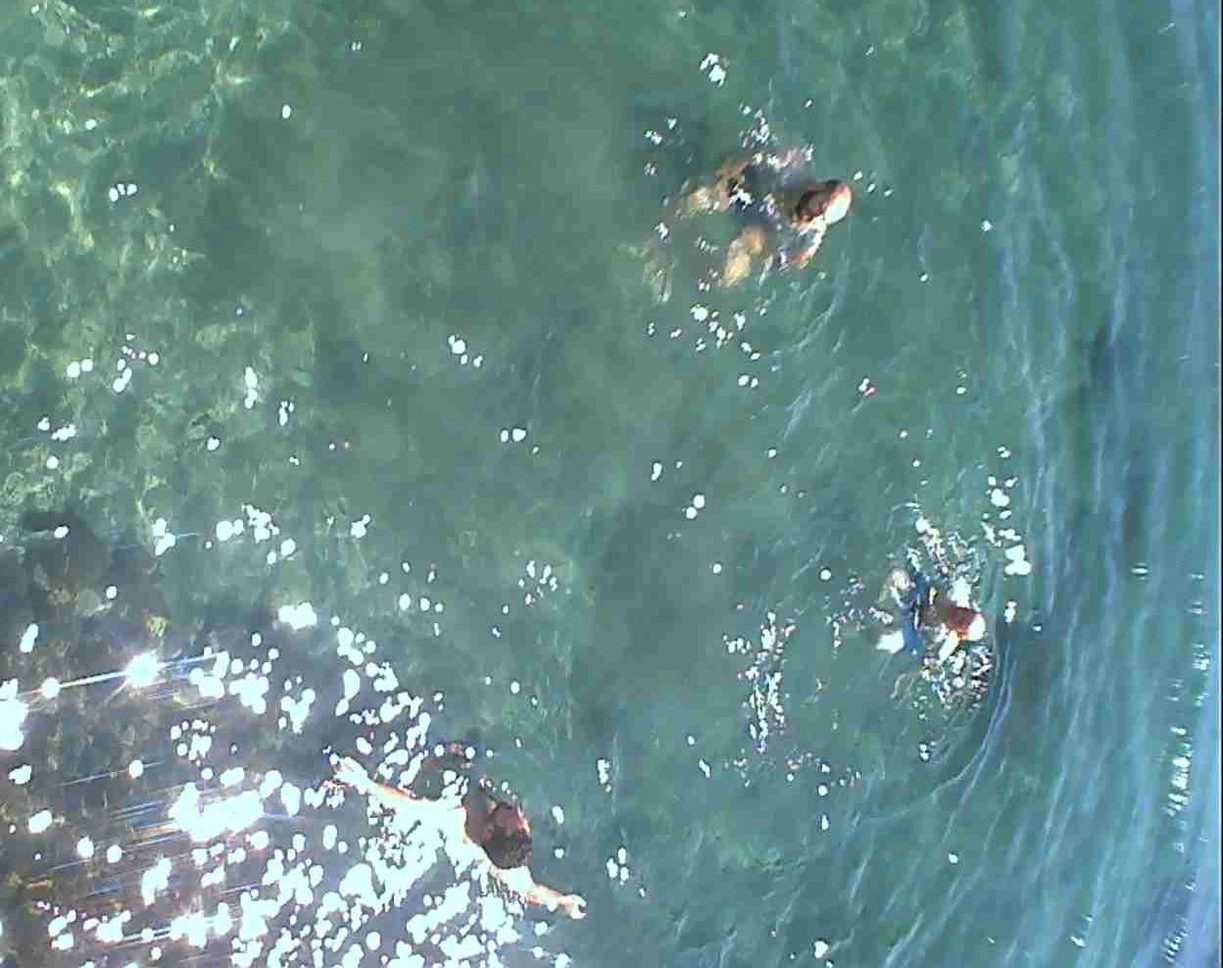swimmer: (903, 529, 1027, 720), (425, 740, 567, 904), (742, 124, 875, 290)
